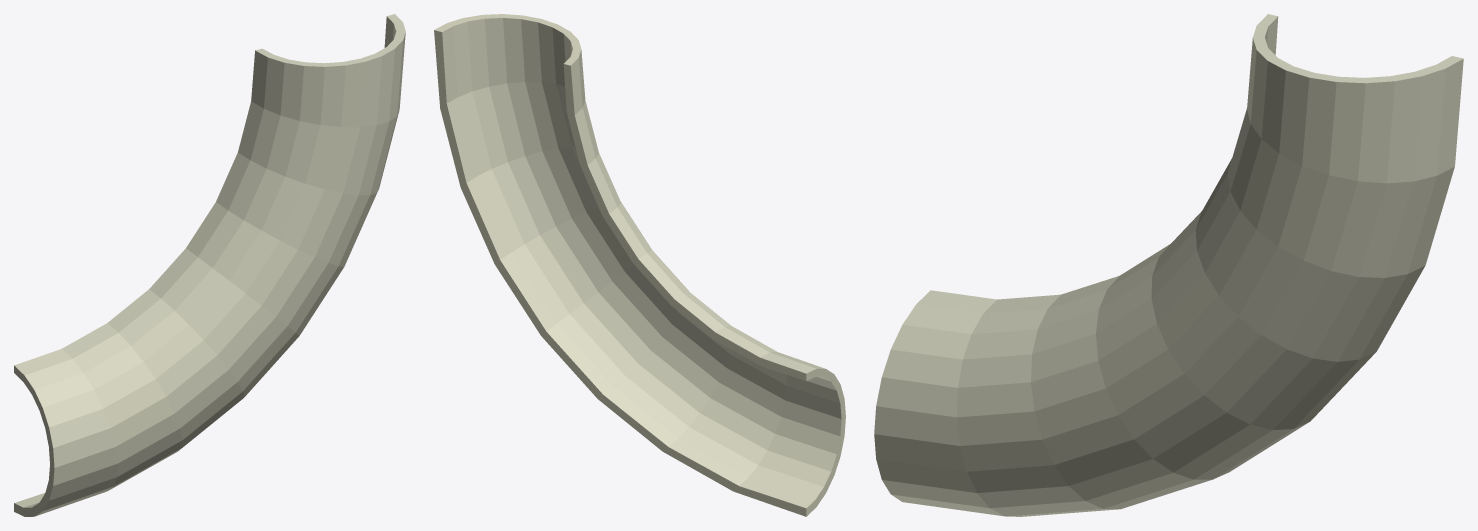
The model's file is section_226.obj.
3 views of the same model, side by side, from view 1: azimuth 30°, elevation 25°; view 2: azimuth 150°, elevation 25°; view 3: azimuth 330°, elevation 25° (orthographic). The views are drawn at different scales.
Bounding box in the file's own units: 48.99 × 49.77 × 9.
